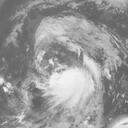cyclone: (47, 66, 95, 107)
